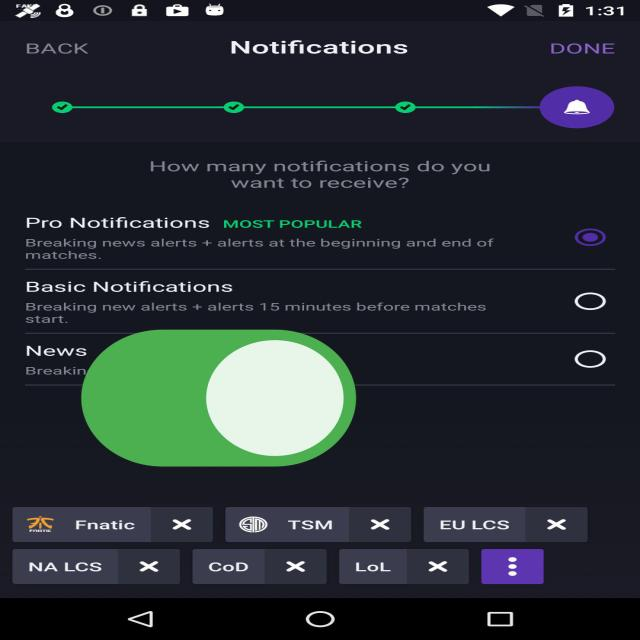social proof: (69, 277, 368, 530)
